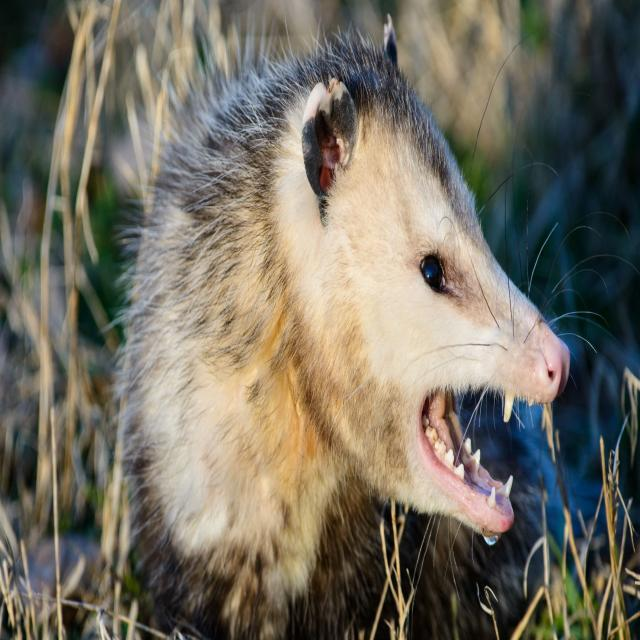Possum: (125, 11, 573, 590)
